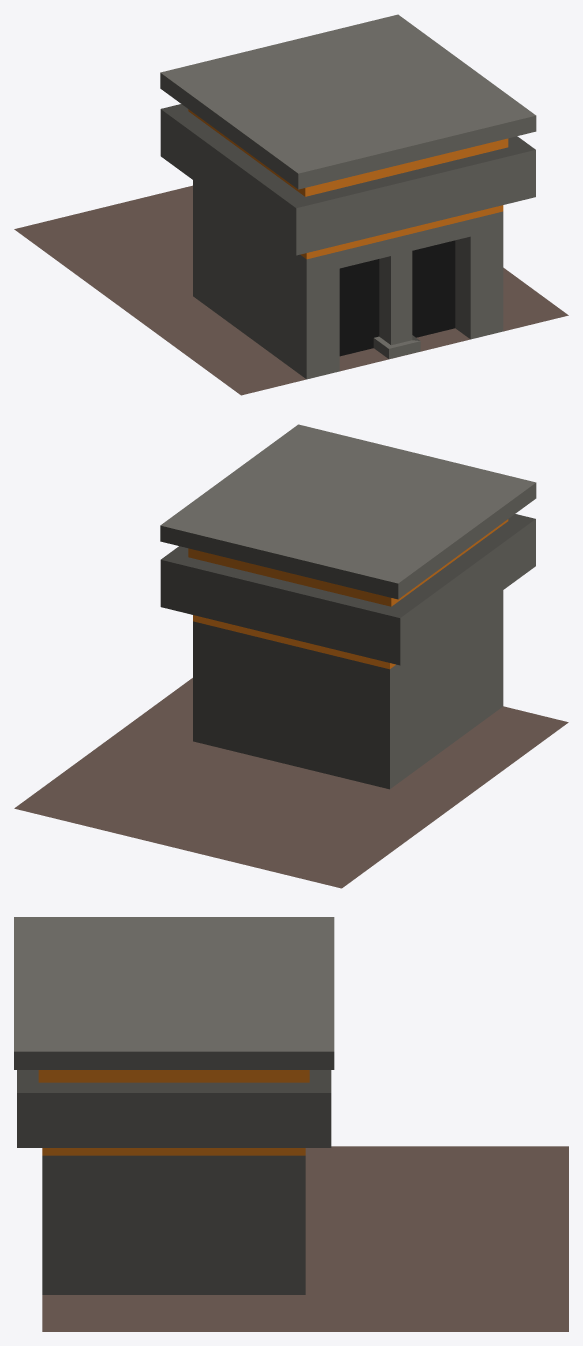
The model's file is HouseOfUnlife-lvl000.fbx.
The picture shows the model from 3 angles, top to bottom: view 1: azimuth 30°, elevation 25°; view 2: azimuth 150°, elevation 25°; view 3: azimuth 270°, elevation 25°; orthographic projection. The views are drawn at different scales.
Parts seen in each view (by area): view 1: Deboner.006; view 2: Deboner.006; view 3: Deboner.006.
Boxes of the visible parts, box(x1,y1,x2,y2) form: Deboner.006: box(14, 14, 568, 395); Deboner.006: box(14, 424, 568, 888); Deboner.006: box(14, 917, 568, 1331).
Bounding box in the file's own units: 500 × 320 × 632.
